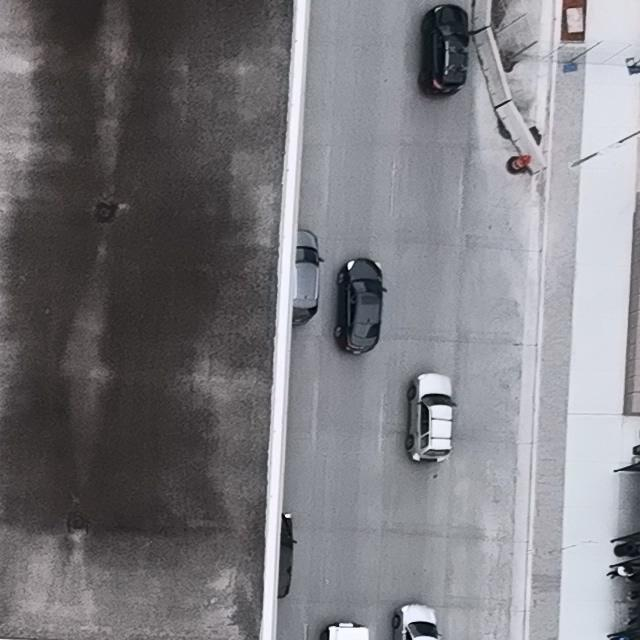car: (334, 257, 388, 356), (404, 372, 457, 464), (419, 4, 468, 99), (292, 228, 326, 327), (392, 603, 442, 640), (278, 512, 298, 598), (319, 622, 370, 640)
